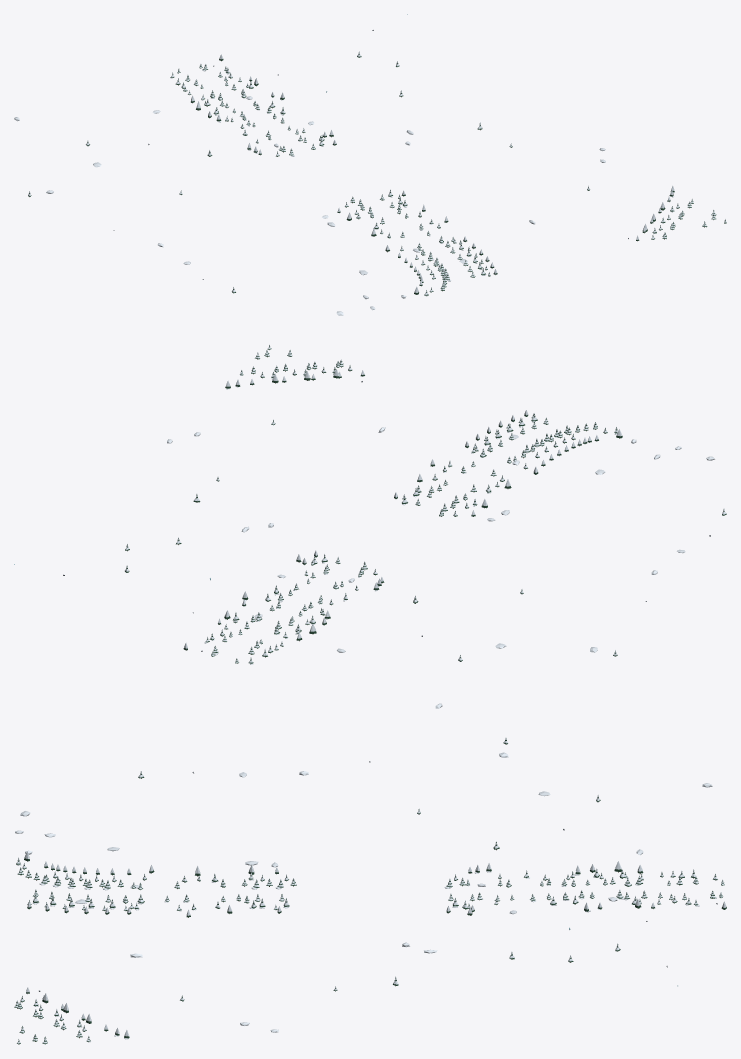
Rendered from Fill_0_-1.fbx.
3 views of the same model, one above another, from view 1: azimuth 30°, elevation 25°; view 2: azimuth 150°, elevation 25°; view 3: azimuth 270°, elevation 25° (orthographic). The views are drawn at different scales.
Parts seen in each view (by area): view 1: Fill_0_-1; view 2: Fill_0_-1; view 3: Fill_0_-1.
Part boxes in pixels (x1,y1,x2,y2): Fill_0_-1: (14,14,726,315); Fill_0_-1: (14,344,726,708); Fill_0_-1: (14,737,726,1044).
Bounding box in the file's own units: 58574 × 2823 × 59053.
